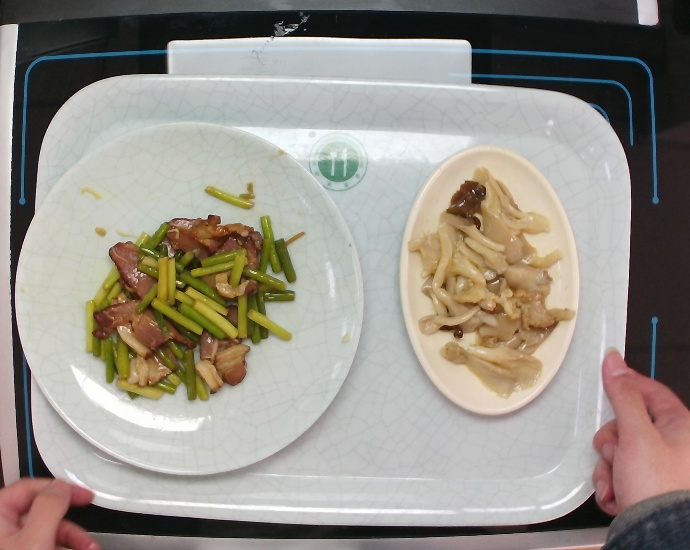JYsf-Da_Yuan_Pan: (14, 118, 364, 483)
JYsf-Tuo_Yuan_Wan: (396, 143, 584, 423)
